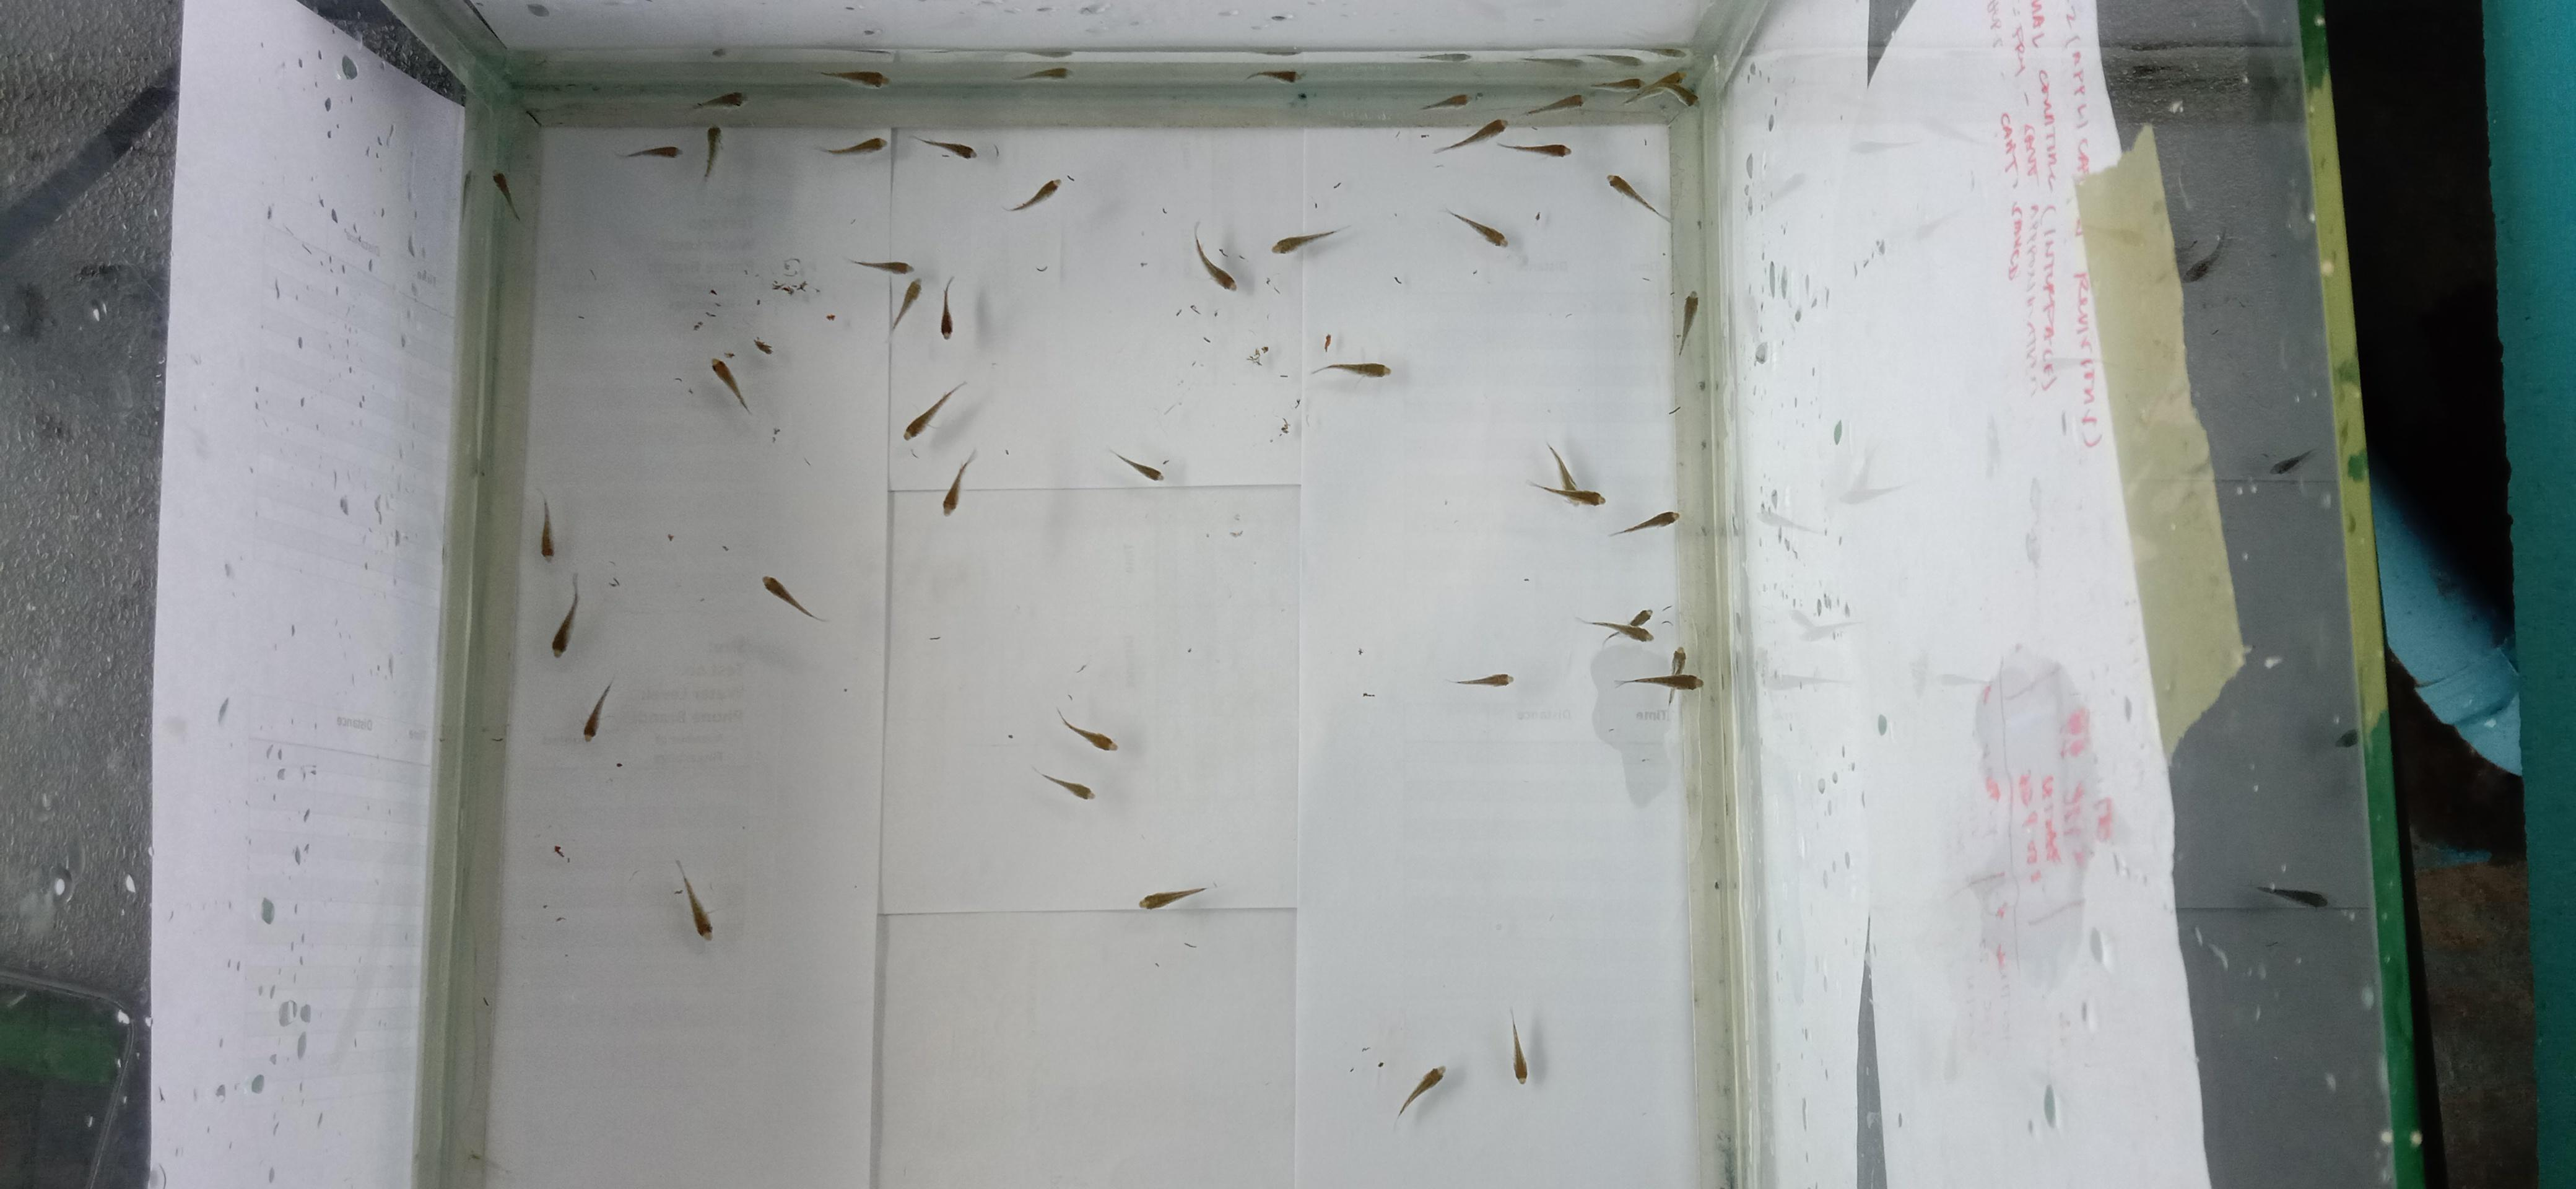fingerling: (904, 381, 966, 440), (1607, 172, 1671, 223), (674, 859, 713, 938), (762, 575, 825, 622), (1625, 69, 1697, 108), (1582, 608, 1656, 644), (1058, 708, 1117, 752), (1436, 118, 1506, 153), (1396, 1066, 1444, 1117), (940, 450, 976, 514), (1446, 209, 1506, 246), (550, 576, 578, 657), (710, 356, 749, 412), (1198, 236, 1237, 291), (1546, 443, 1587, 493), (1273, 227, 1344, 255), (1009, 176, 1061, 212), (889, 278, 922, 333), (1037, 770, 1094, 801), (1111, 450, 1165, 483), (582, 682, 611, 741), (1612, 509, 1677, 535), (1138, 885, 1206, 910), (1618, 672, 1702, 691), (1676, 291, 1699, 355), (1510, 1010, 1529, 1084), (1525, 92, 1582, 117), (918, 136, 976, 159), (1311, 361, 1390, 378), (823, 69, 887, 89), (823, 135, 885, 154), (1421, 90, 1483, 110), (701, 125, 721, 182), (938, 276, 956, 338), (1567, 493, 1615, 516), (692, 90, 746, 110), (1500, 141, 1571, 156), (539, 498, 555, 560), (849, 258, 910, 274), (1454, 672, 1511, 688), (626, 145, 680, 159), (1250, 69, 1303, 84), (1594, 76, 1644, 90), (1023, 67, 1069, 79), (1669, 647, 1687, 675)
